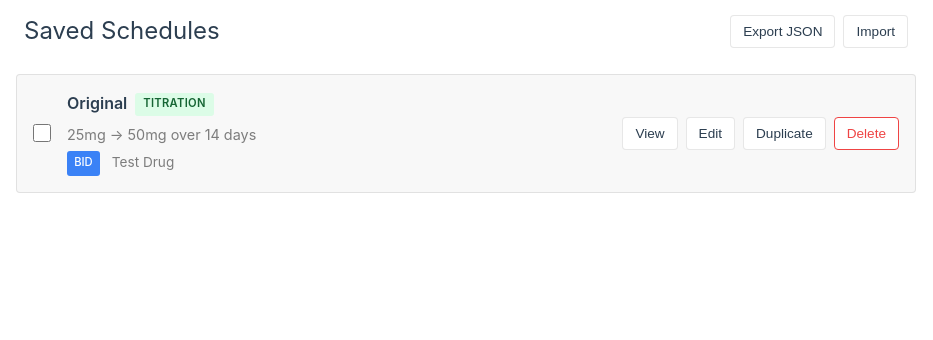
ScheduleList › actions › duplicates schedule when duplicate button clicked
The image size is (933, 340).
Click the button "Duplicate" at (784, 134), box x1=743 y1=117 x2=826 y2=150
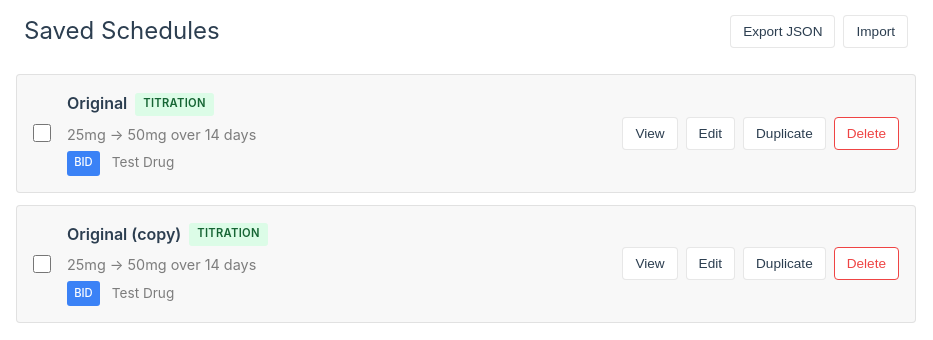
Expected: the number of list items is 2, x1=16 y1=74 x2=916 y2=192; x1=16 y1=204 x2=916 y2=323
